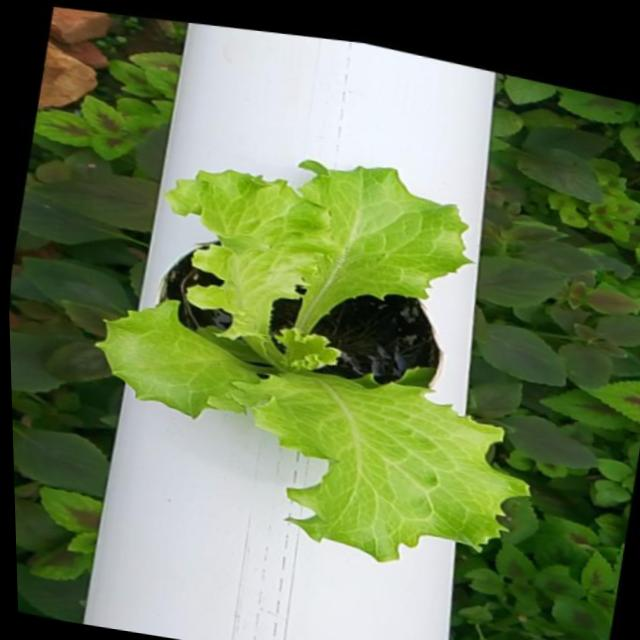Baby: (79, 163, 510, 561)
